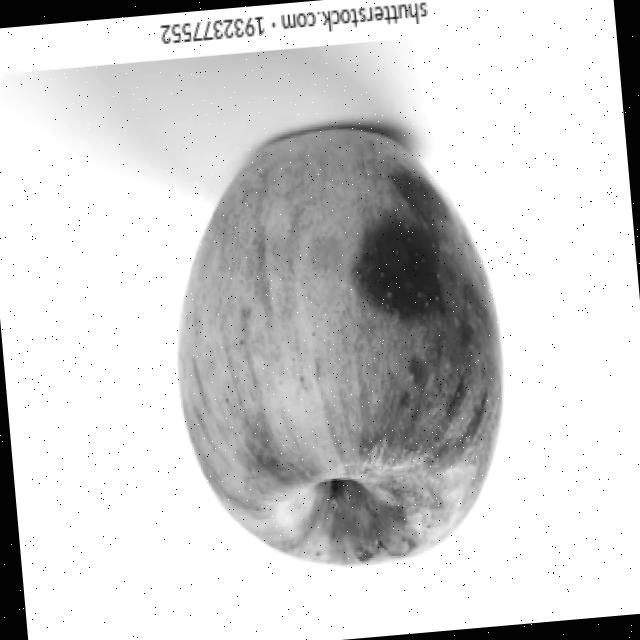overripe: (156, 114, 521, 584)
